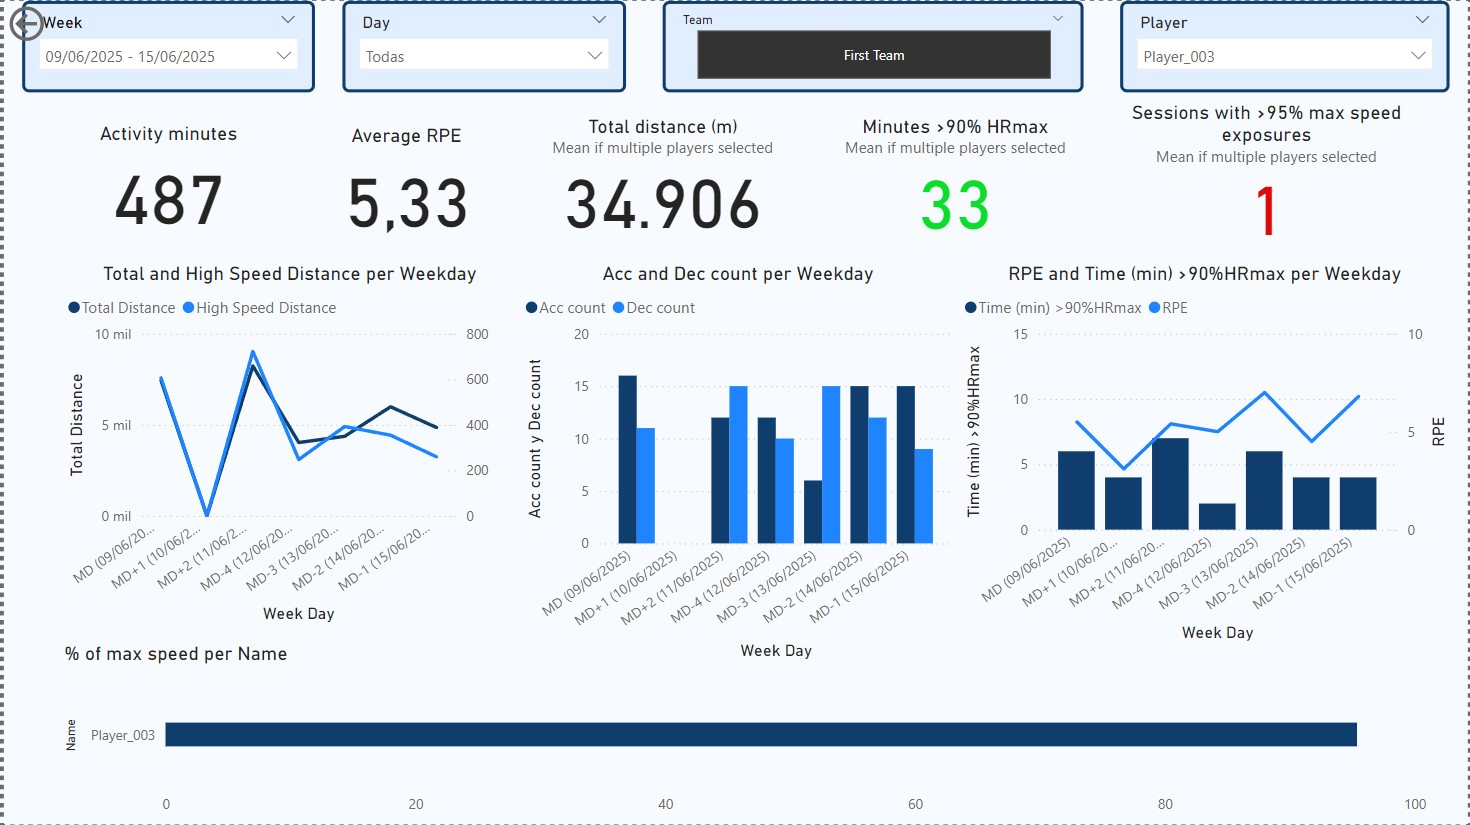

This screenshot's page, from the dashboard's own definition file:
{"tool":"powerbi","page":{"name":"WeeklyLoad","canvas":[1280,720],"ordinal":0},"visuals":[{"type":"slicer","fields":{"Values":["players.team"]},"box":[576,0,368,80],"z":0},{"type":"slicer","fields":{"Values":["session_metrics.DayLabelWithDate"]},"box":[296,0,248,80],"z":1000},{"type":"slicer","fields":{"Values":["players.name"]},"box":[976,0,288,80],"z":2000},{"type":"slicer","fields":{"Values":["session_metrics.WeekLabel"]},"box":[16,0,256,80],"z":3000},{"type":"card","title":"Activity minutes","fields":{"Values":["Sum(session_metrics.duration_min)"]},"box":[48.2,100.7,192,112],"z":4000},{"type":"card","title":"Total distance (m)","fields":{"Values":["session_metrics.Total Distance Dynamic"]},"box":[464.2,94,224,112],"z":5000},{"type":"card","title":"Average RPE","fields":{"Values":["Avg(session_metrics.rpe)"]},"box":[280.2,101,144,112],"z":6000},{"type":"card","title":"Minutes >90% HRmax","fields":{"Values":["session_metrics.Minutes >90HRMAX Dynamic"]},"box":[728.2,94,208,112],"z":7000},{"type":"card","title":"Sessions with >95% max speed exposures","fields":{"Values":["session_metrics.HighSpeed_Exposures Dynamic"]},"box":[976,82,256,128],"z":8000},{"type":"lineChart","title":"Total and High Speed Distance per Weekday","fields":{"Category":["session_metrics.DayLabelWithDate"],"Y":["Sum(session_metrics.total_distance_m)"],"Y2":["Sum(session_metrics.high_speed_distance_m)"]},"box":[49.3,228.9,400,320],"z":9000},{"type":"clusteredColumnChart","title":"Acc and Dec count per Weekday","fields":{"Category":["session_metrics.DayLabelWithDate"],"Y":["Sum(session_metrics.accel_count)","Sum(session_metrics.decel_count)"]},"box":[449.3,228.9,384,352],"z":10000},{"type":"actionButton","box":[0,0,100,40],"z":11000},{"type":"lineClusteredColumnComboChart","title":"RPE and Time (min) >90%HRmax per Weekday","fields":{"Y":["Sum(session_metrics.hr_zone_5_min)"],"Category":["session_metrics.DayLabelWithDate"],"Y2":["Avg(session_metrics.rpe)"]},"box":[833.3,228.9,432,336],"z":12000},{"type":"clusteredBarChart","title":"% of max speed per Name","fields":{"Category":["players.name"],"Y":["Max(session_metrics.%_max_speed)"]},"box":[48,560,1200,160],"z":13000}]}

Visuals, with their boxes in screenshot pixels (x1, y1, x2, y2), scaled from the page's 1280x720 canvas onto the 1470x825 screenshot:
slicer - players.team: 662, 0, 1084, 92
slicer - session_metrics.DayLabelWithDate: 340, 0, 625, 92
slicer - players.name: 1121, 0, 1452, 92
slicer - session_metrics.WeekLabel: 18, 0, 312, 92
"Activity minutes" card: 55, 115, 276, 244
"Total distance (m)" card: 533, 108, 790, 236
"Average RPE" card: 322, 116, 487, 244
"Minutes >90% HRmax" card: 836, 108, 1075, 236
"Sessions with >95% max speed exposures" card: 1121, 94, 1415, 241
"Total and High Speed Distance per Weekday" lineChart: 57, 262, 516, 629
"Acc and Dec count per Weekday" clusteredColumnChart: 516, 262, 957, 666
actionButton: 0, 0, 115, 46
"RPE and Time (min) >90%HRmax per Weekday" lineClusteredColumnComboChart: 957, 262, 1453, 647
"% of max speed per Name" clusteredBarChart: 55, 642, 1433, 824
